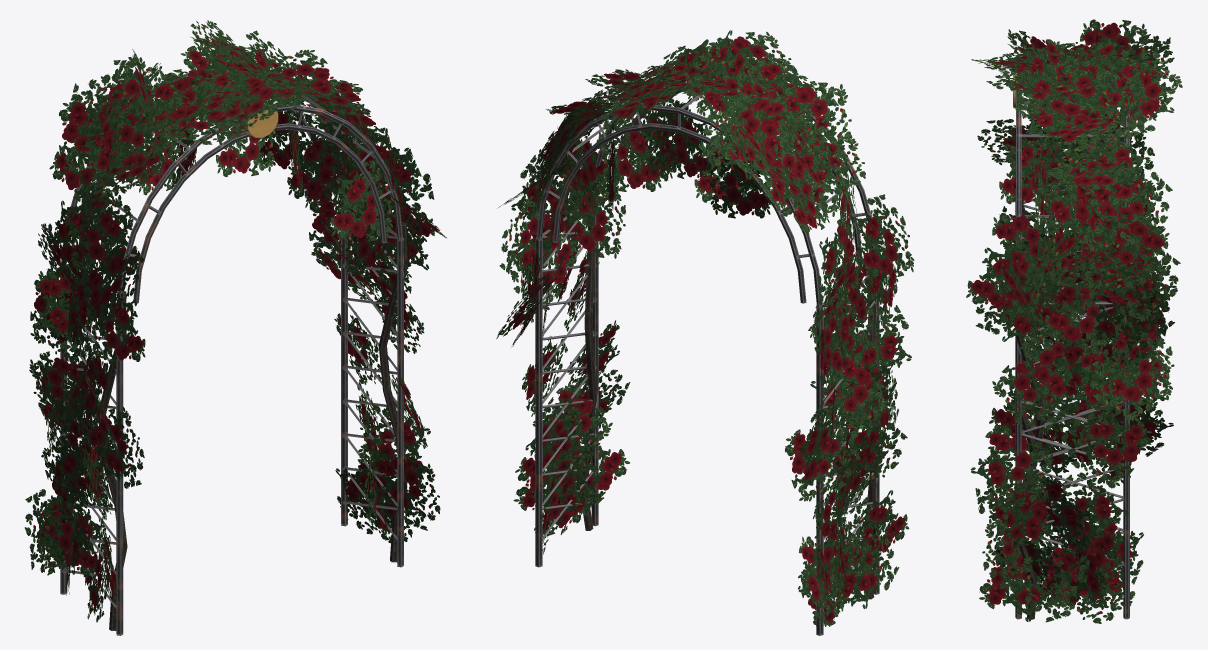
Rendered from RoseArbor.fbx.
The picture shows the model from 3 angles, left to right: view 1: azimuth 30°, elevation 25°; view 2: azimuth 150°, elevation 25°; view 3: azimuth 270°, elevation 25°; orthographic projection. The views are drawn at different scales.
Parts seen in each view (by area): view 1: RoseArbor_Leaves, RoseArbor_Main; view 2: RoseArbor_Leaves, RoseArbor_Main; view 3: RoseArbor_Leaves, RoseArbor_Main.
Boxes of the visible parts, <box> form: RoseArbor_Leaves: <box>24,20,446,622</box>; RoseArbor_Main: <box>60,68,407,635</box>; RoseArbor_Leaves: <box>496,30,914,626</box>; RoseArbor_Main: <box>535,65,879,635</box>; RoseArbor_Leaves: <box>966,19,1182,623</box>; RoseArbor_Main: <box>1013,68,1129,619</box>.
Size of the model in its own units: 682 by 977 by 397.
